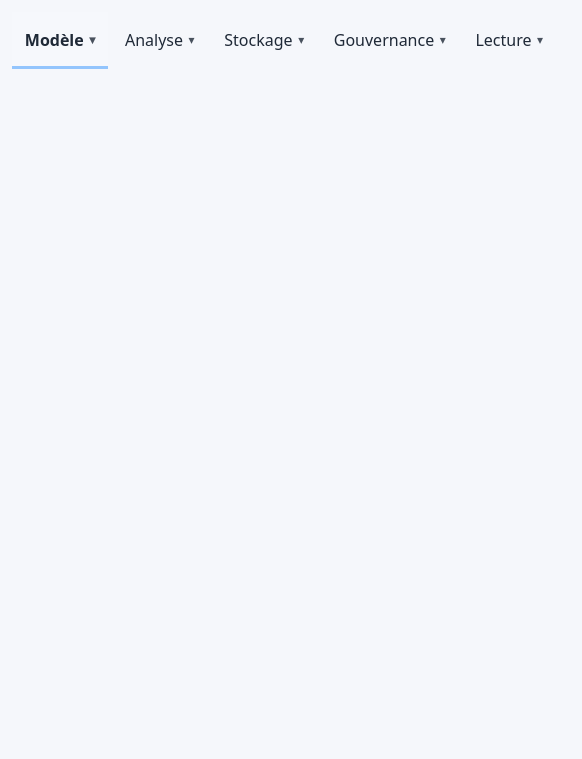
AppNav › opens a group on click, its sections linked with their summary
Click the button "Modèle ▾".
click(60, 40)  # box [12,12,108,69]
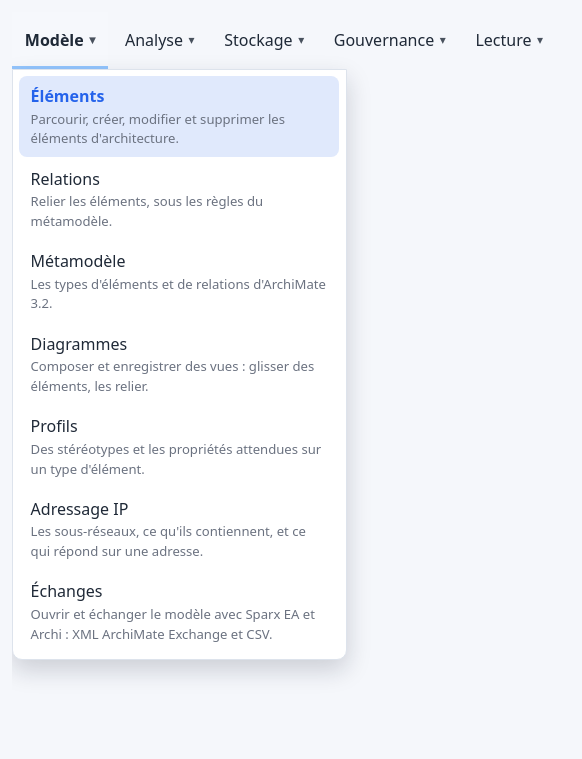
Now the link "Éléments" shows "Parcourir, créer, modifier et supprimer les éléments d'architecture.", box [19,76,339,157]
Now the link "Relations" shows "Relier les éléments, sous les règles du métamodèle.", box [31,168,263,230]
Now the link "Métamodèle" shows "Les types d'éléments et de relations d'ArchiMate 3.2.", box [19,241,339,322]
Click the button "Analyse ▾".
click(160, 40)  # box [112,12,207,69]
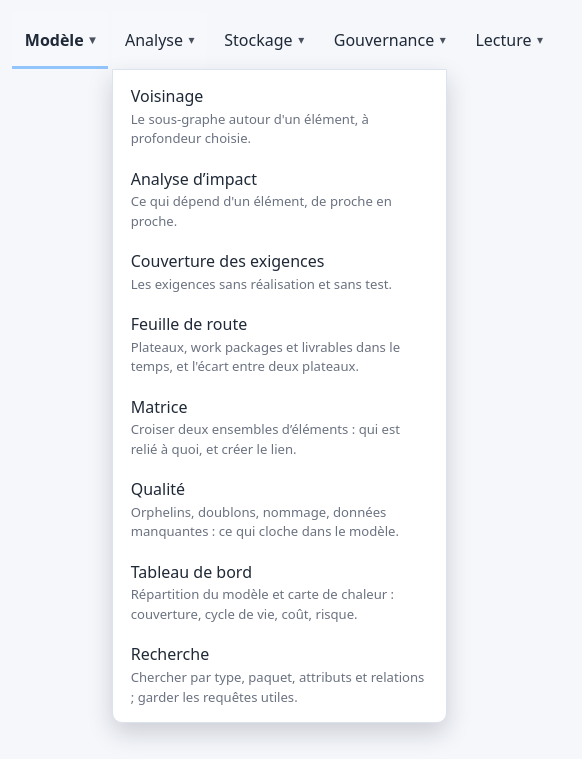
Now the link "Voisinage" shows "Le sous-graphe autour d'un élément, à profondeur choisie.", box [131,85,369,147]
Now the link "Analyse d’impact" shows "Ce qui dépend d'un élément, de proche en proche.", box [131,168,392,230]
Now the link "Couverture des exigences" shows "Les exigences sans réalisation et sans test.", box [131,250,392,293]
Click the button "Stockage ▾".
click(264, 40)  # box [211,12,317,69]
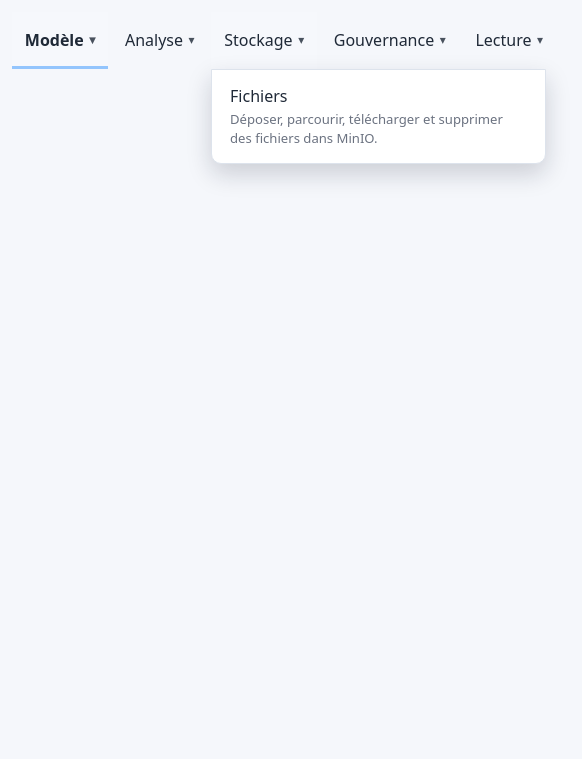
Now the link "Fichiers" shows "Déposer, parcourir, télécharger et supprimer des fichiers dans MinIO.", box [219,76,539,157]
Click the button "Gouvernance ▾".
click(390, 40)  # box [321,12,459,69]
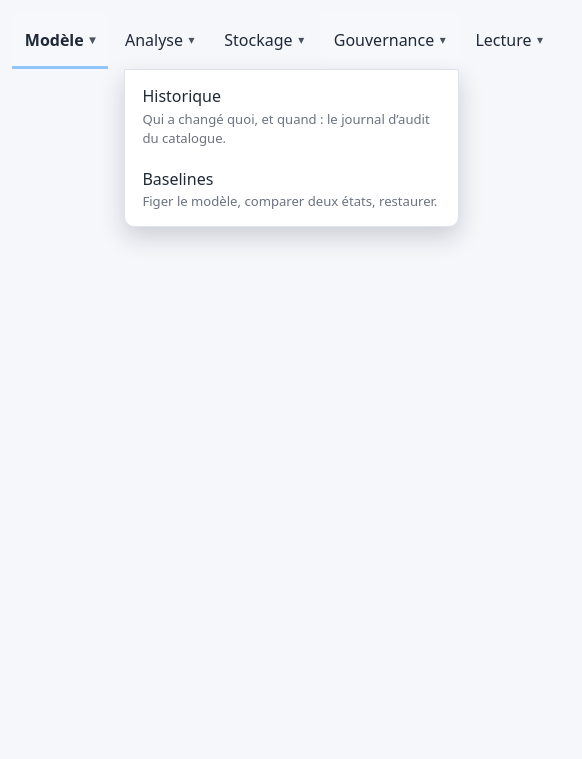
Now the link "Historique" shows "Qui a changé quoi, et quand : le journal d’audit du catalogue.", box [131,76,451,157]
Now the link "Baselines Figer le modèle, comparer deux états, restaurer." is shown, box [131,158,451,220]
Click the button "Lecture ▾".
click(509, 40)  # box [463,12,556,69]
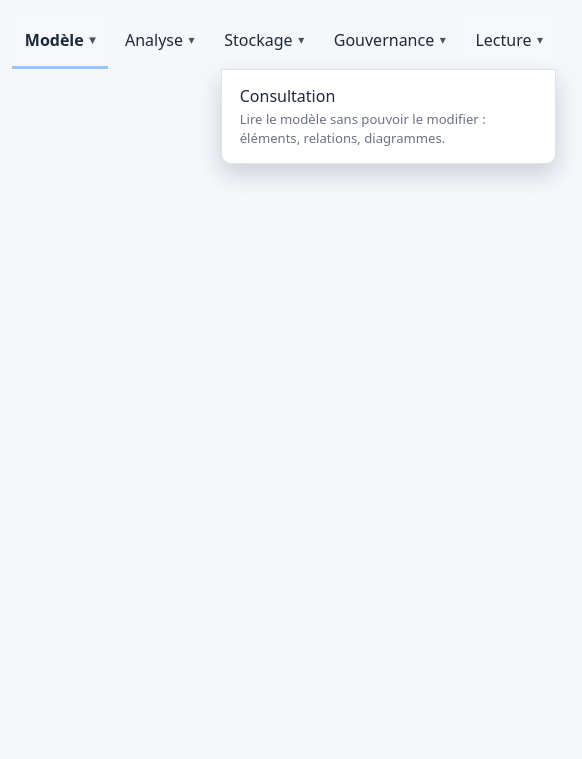
Now the link "Consultation" shows "Lire le modèle sans pouvoir le modifier : éléments, relations, diagrammes.", box [240,85,486,147]
